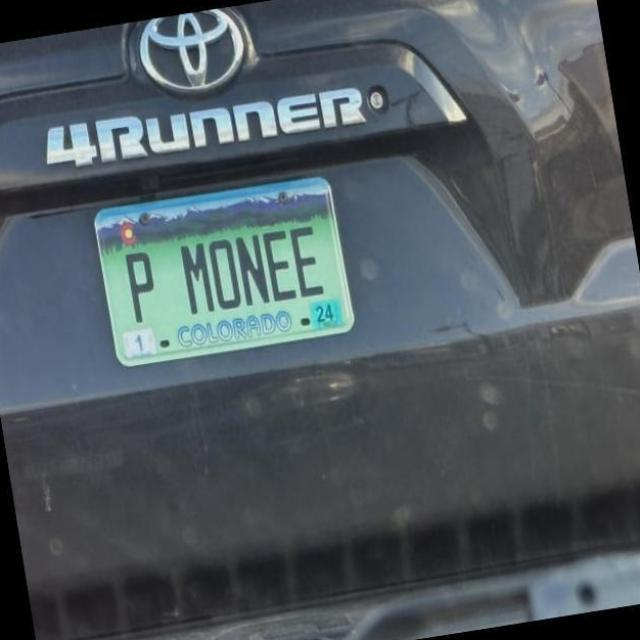license-plate: (97, 219, 351, 364)
